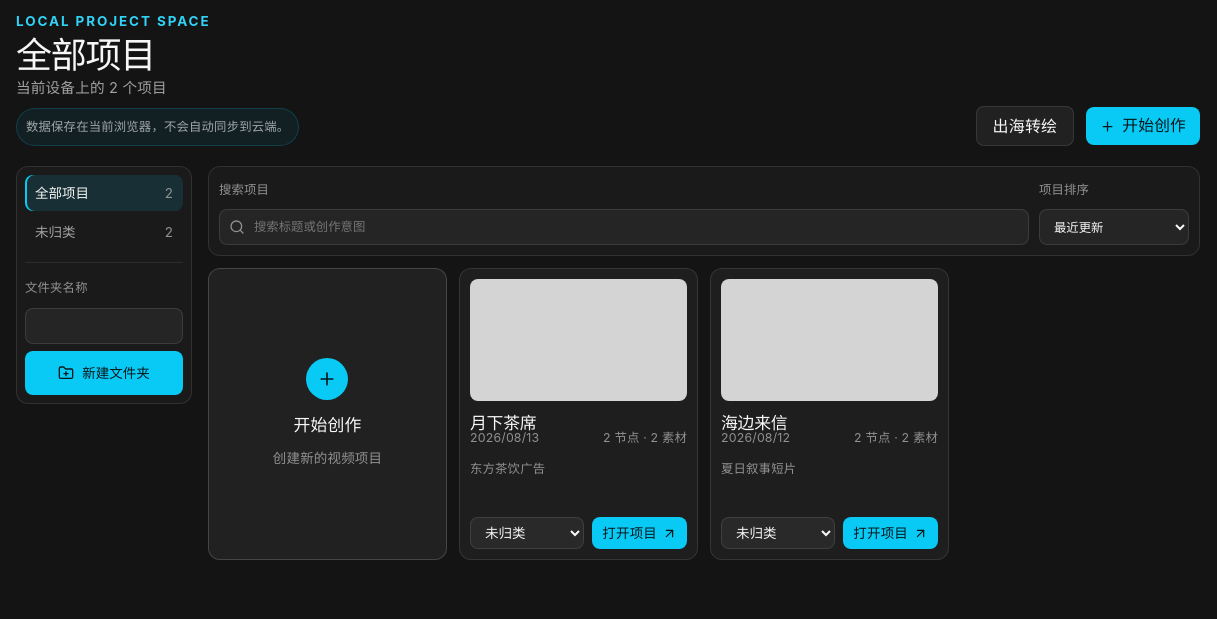
Scenario: projects page › keeps loaded projects visible and reports a folder write failure
Expected: the heading "月下茶席" is shown, [470,411,536,434]
Type "重复" into the field labelled "文件夹名称" at (104, 326), box [25,308,183,344]
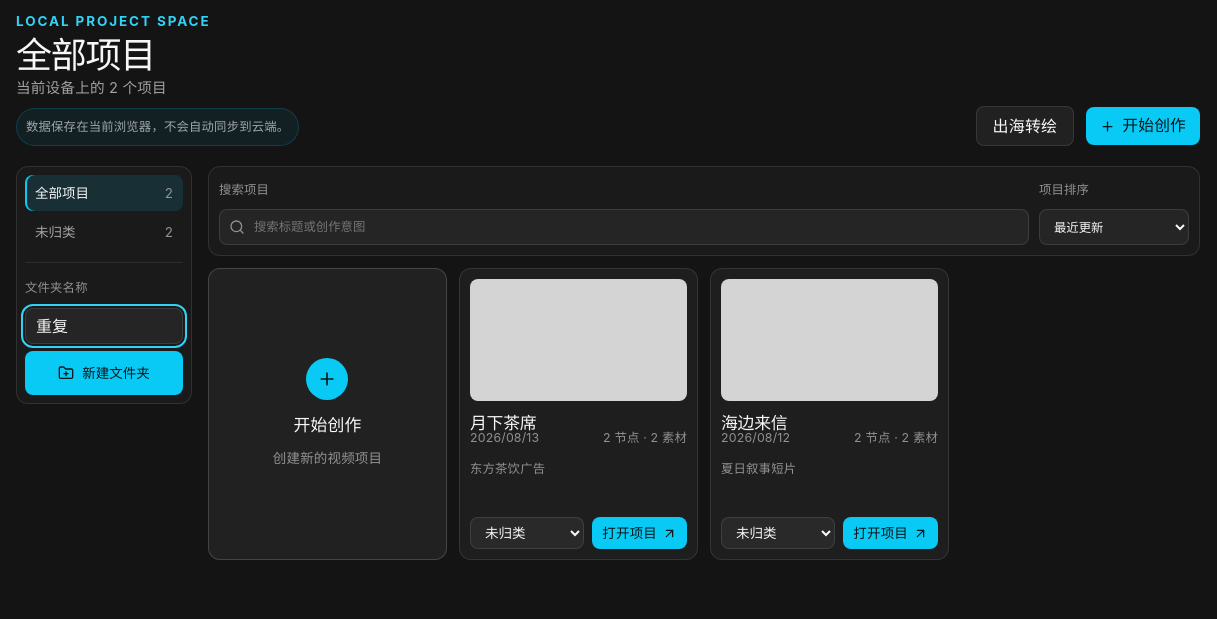
Click the button "新建文件夹" at (104, 373), box [25,351,183,395]
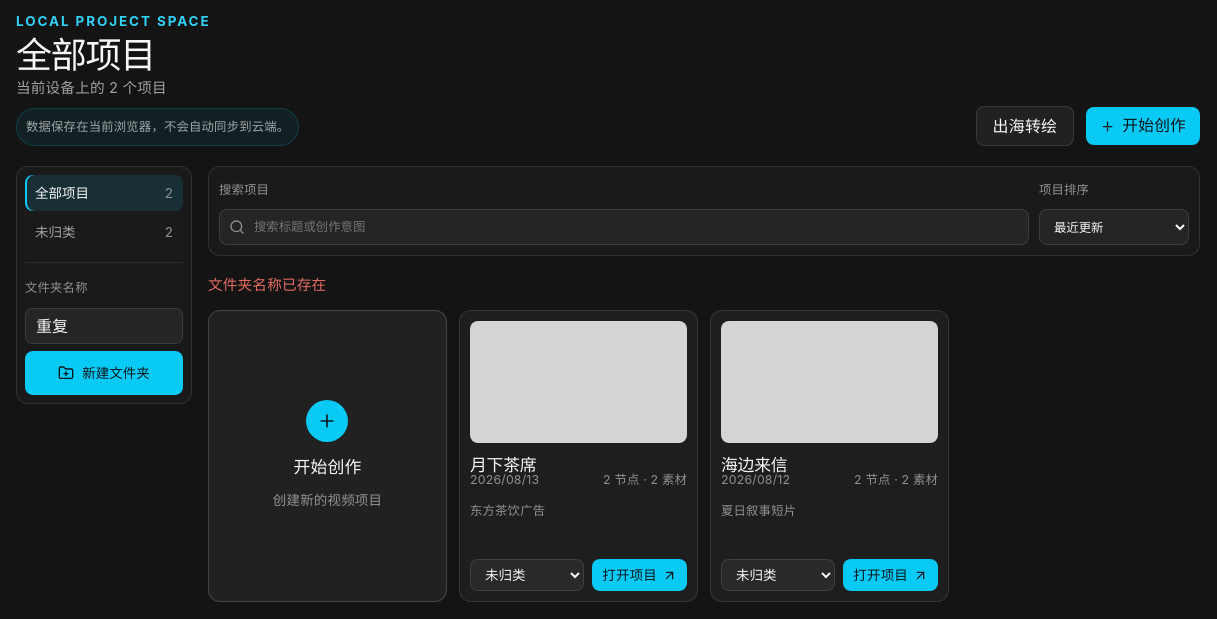
Expected: the heading "月下茶席" is shown, [470,453,536,476]
Result: the message reads "文件夹名称已存在" at [208,276,326,294]
